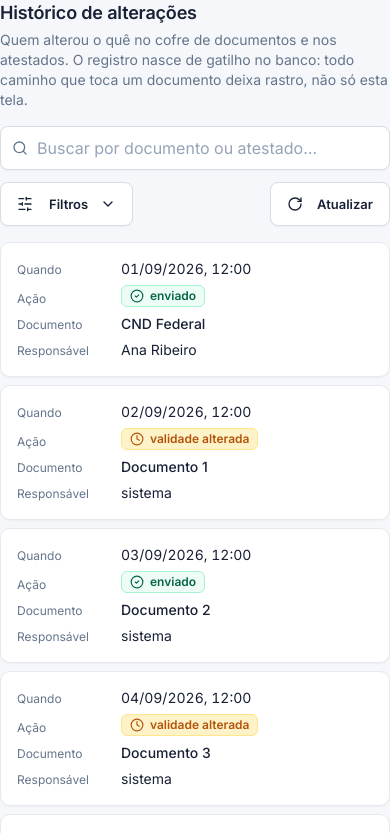
Scenario: filtros › a busca por documento vai ao banco como ilike, não filtra o array local
Expected: the text "CND Federal" is shown, x1=121 y1=315 x2=205 y2=332
Expected: the text "Documento 1" is shown, x1=121 y1=458 x2=208 y2=475
In the field with placeholder "Buscar por documento ou atestado…": (195, 148) x1=0 y1=126 x2=389 y2=170, type "CND"
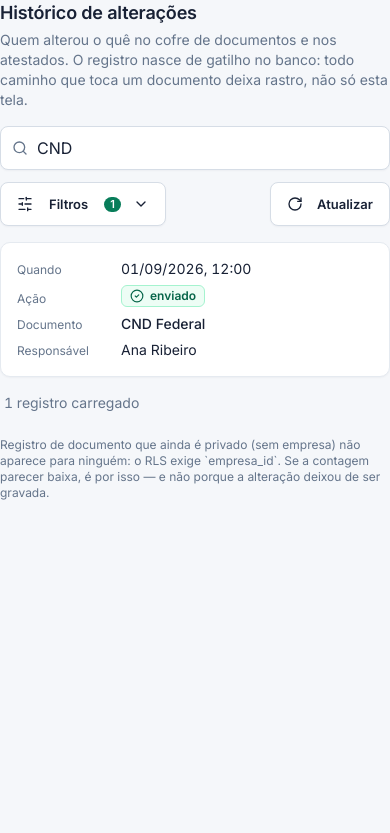
Expected: the text "CND Federal" is shown, x1=121 y1=315 x2=205 y2=332
Result: the text "Documento 1" is gone
